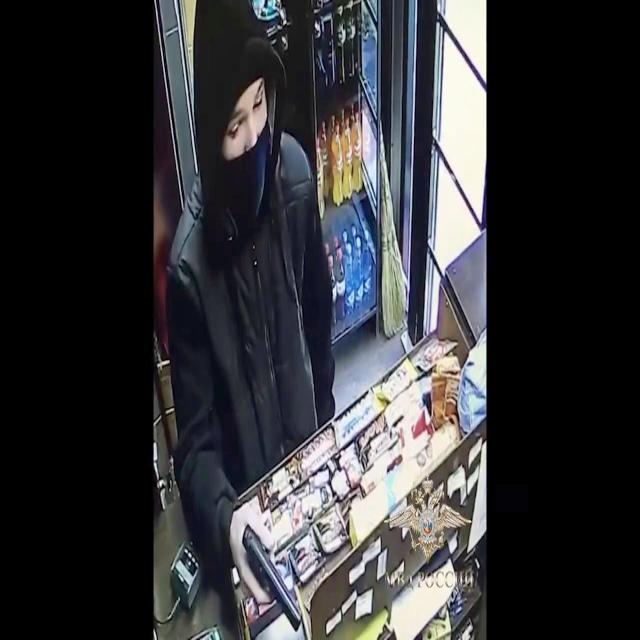gun: (173, 21, 332, 631), (235, 506, 305, 626)
